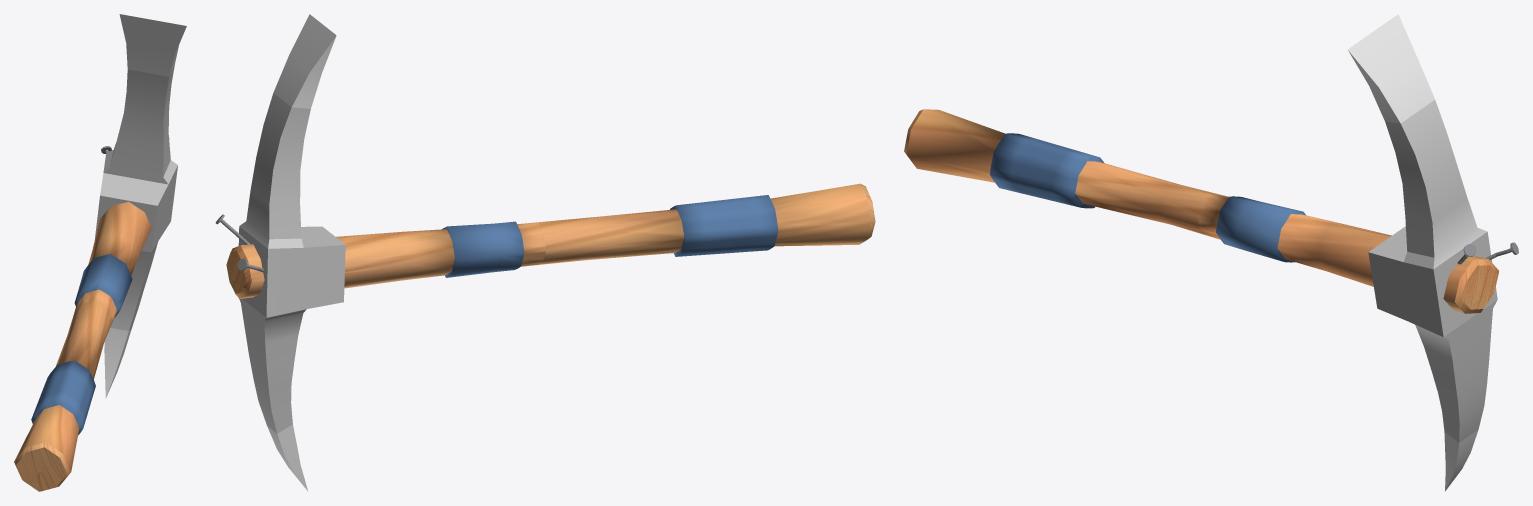
File: Pickaxe_1.fbx
3 views of the same model, side by side, from view 1: azimuth 30°, elevation 25°; view 2: azimuth 150°, elevation 25°; view 3: azimuth 270°, elevation 25° (orthographic). The views are drawn at different scales.
Parts seen in each view (by area): view 1: Pickaxe_1; view 2: Pickaxe_1; view 3: Pickaxe_1.
Part boxes in pixels (left/top/right/bottom): Pickaxe_1: left=14, top=14, right=186, bottom=491; Pickaxe_1: left=226, top=14, right=875, bottom=491; Pickaxe_1: left=904, top=14, right=1498, bottom=491.
Bounding box in the file's own units: 38.54 × 39.39 × 46.26.
5 materials, 1 textured.
